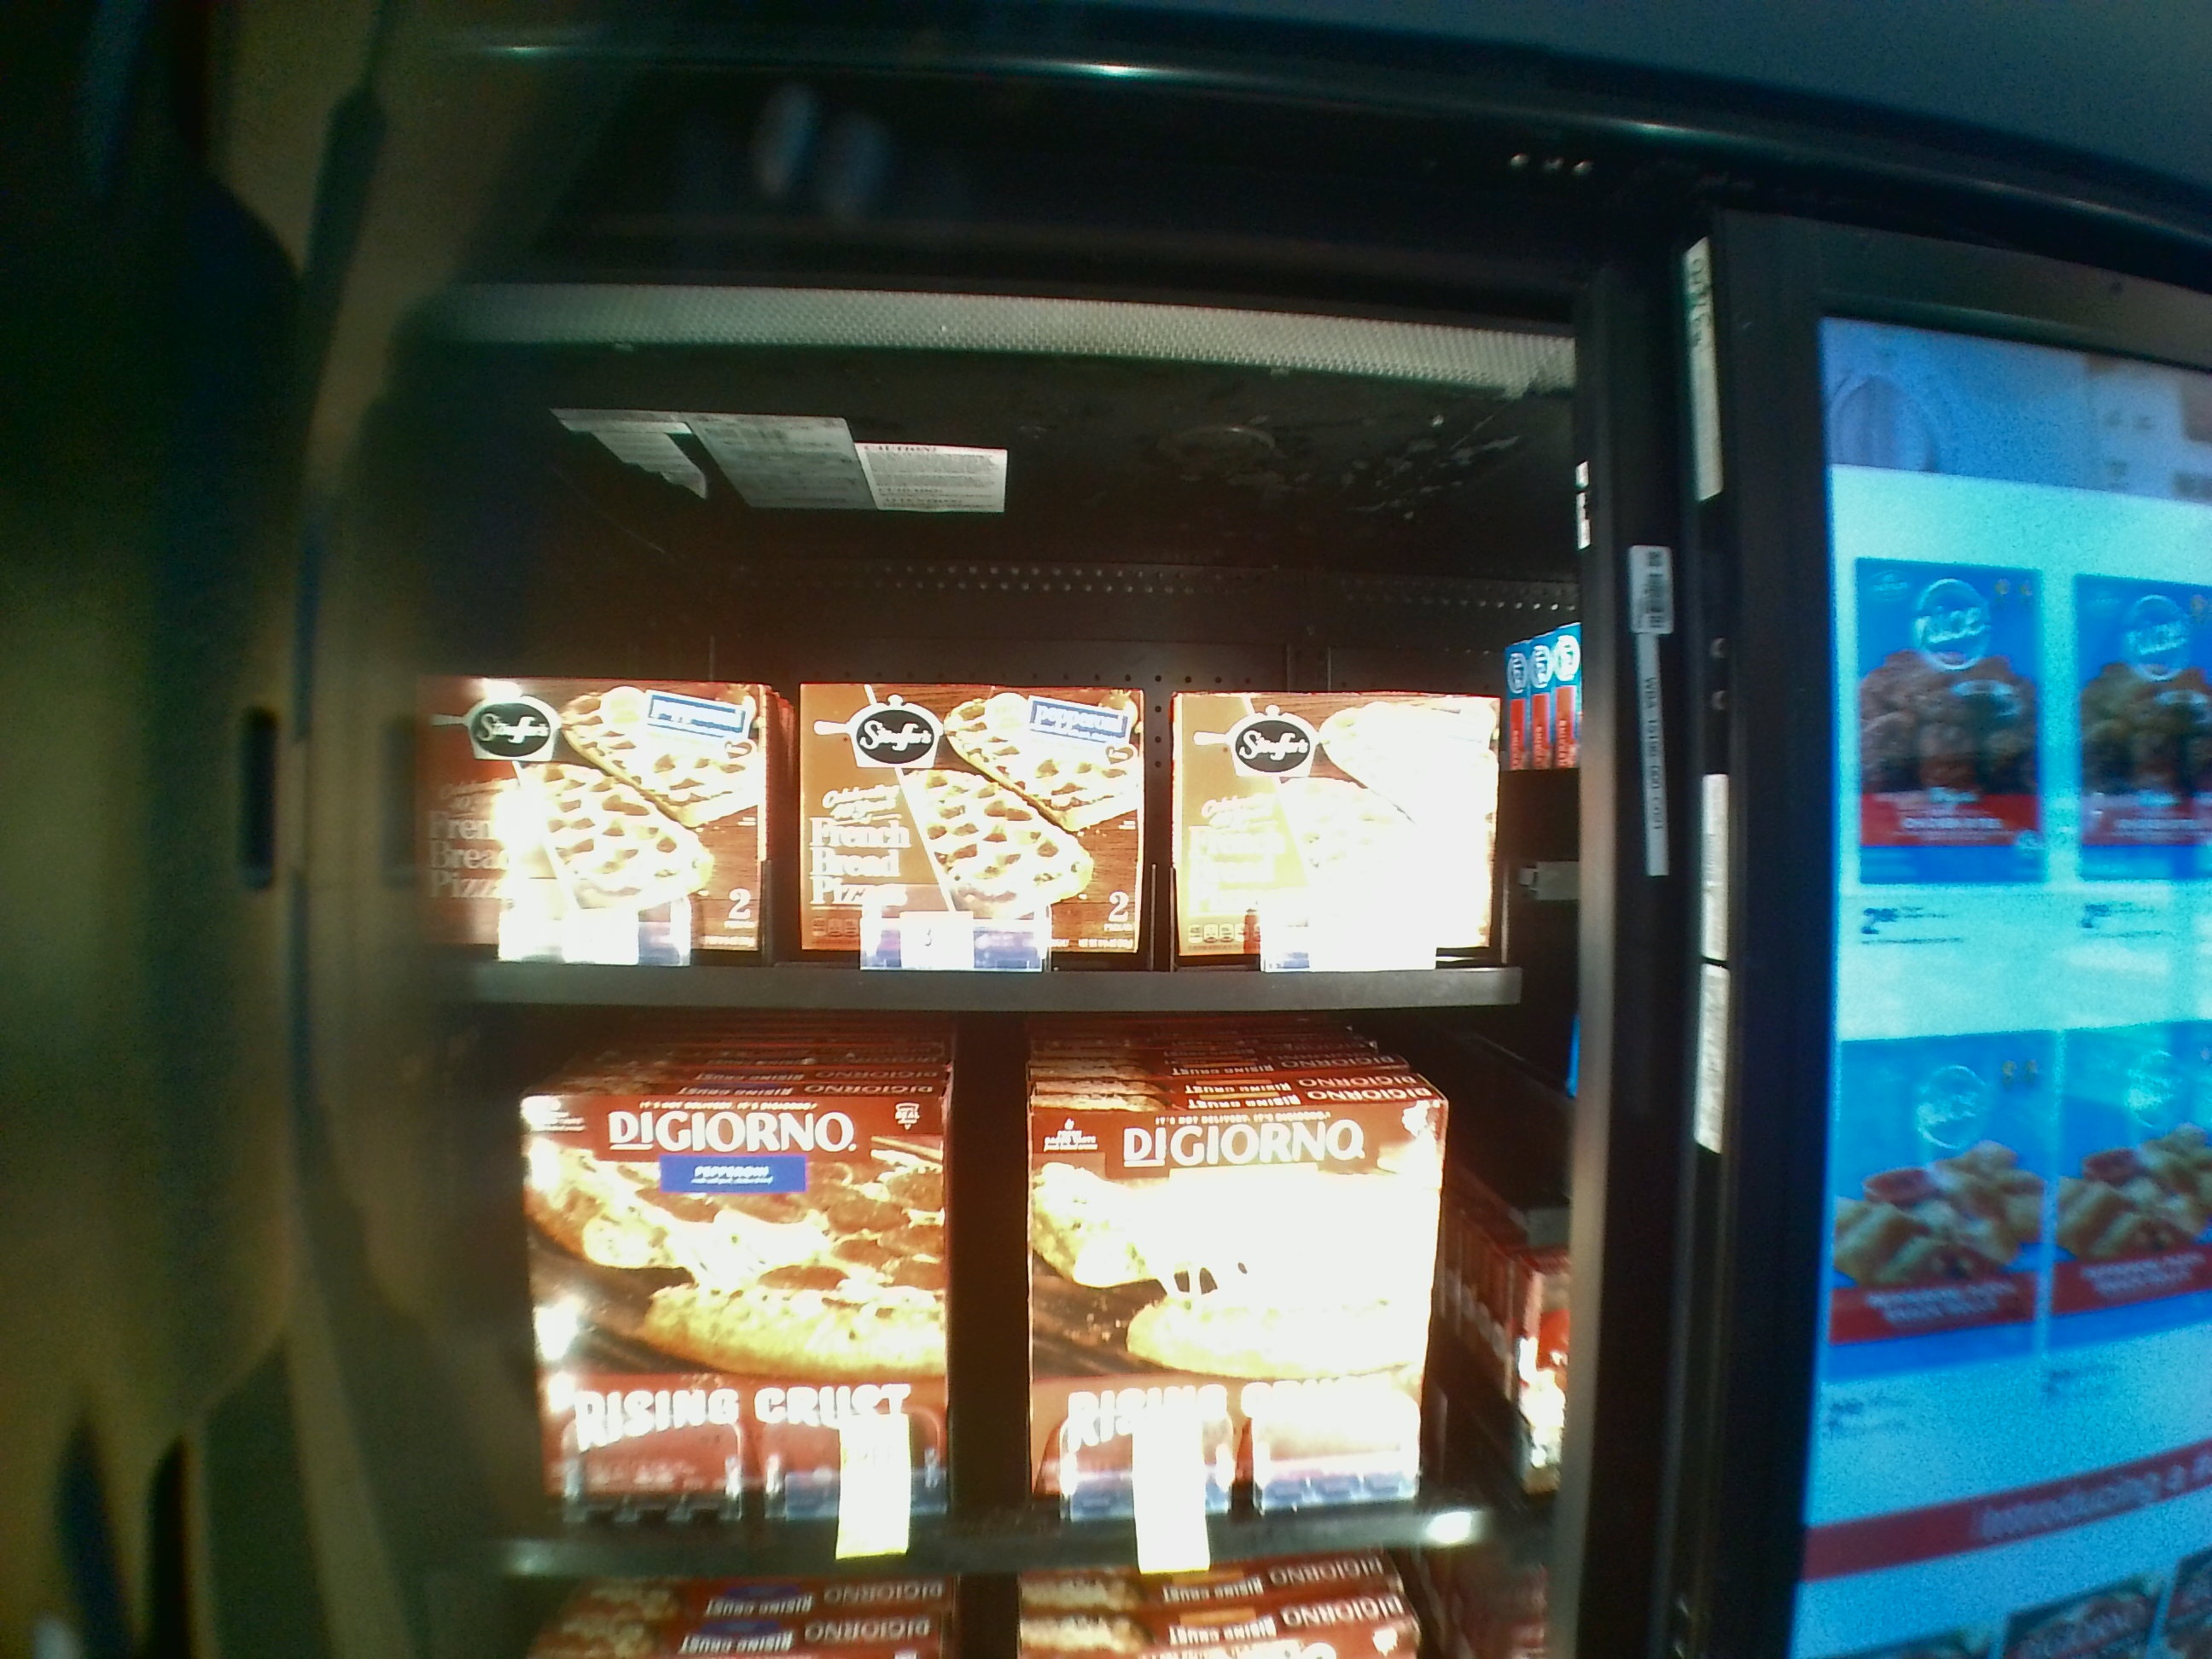shelf: (394, 355, 1554, 1018), (432, 1004, 1559, 1581)
